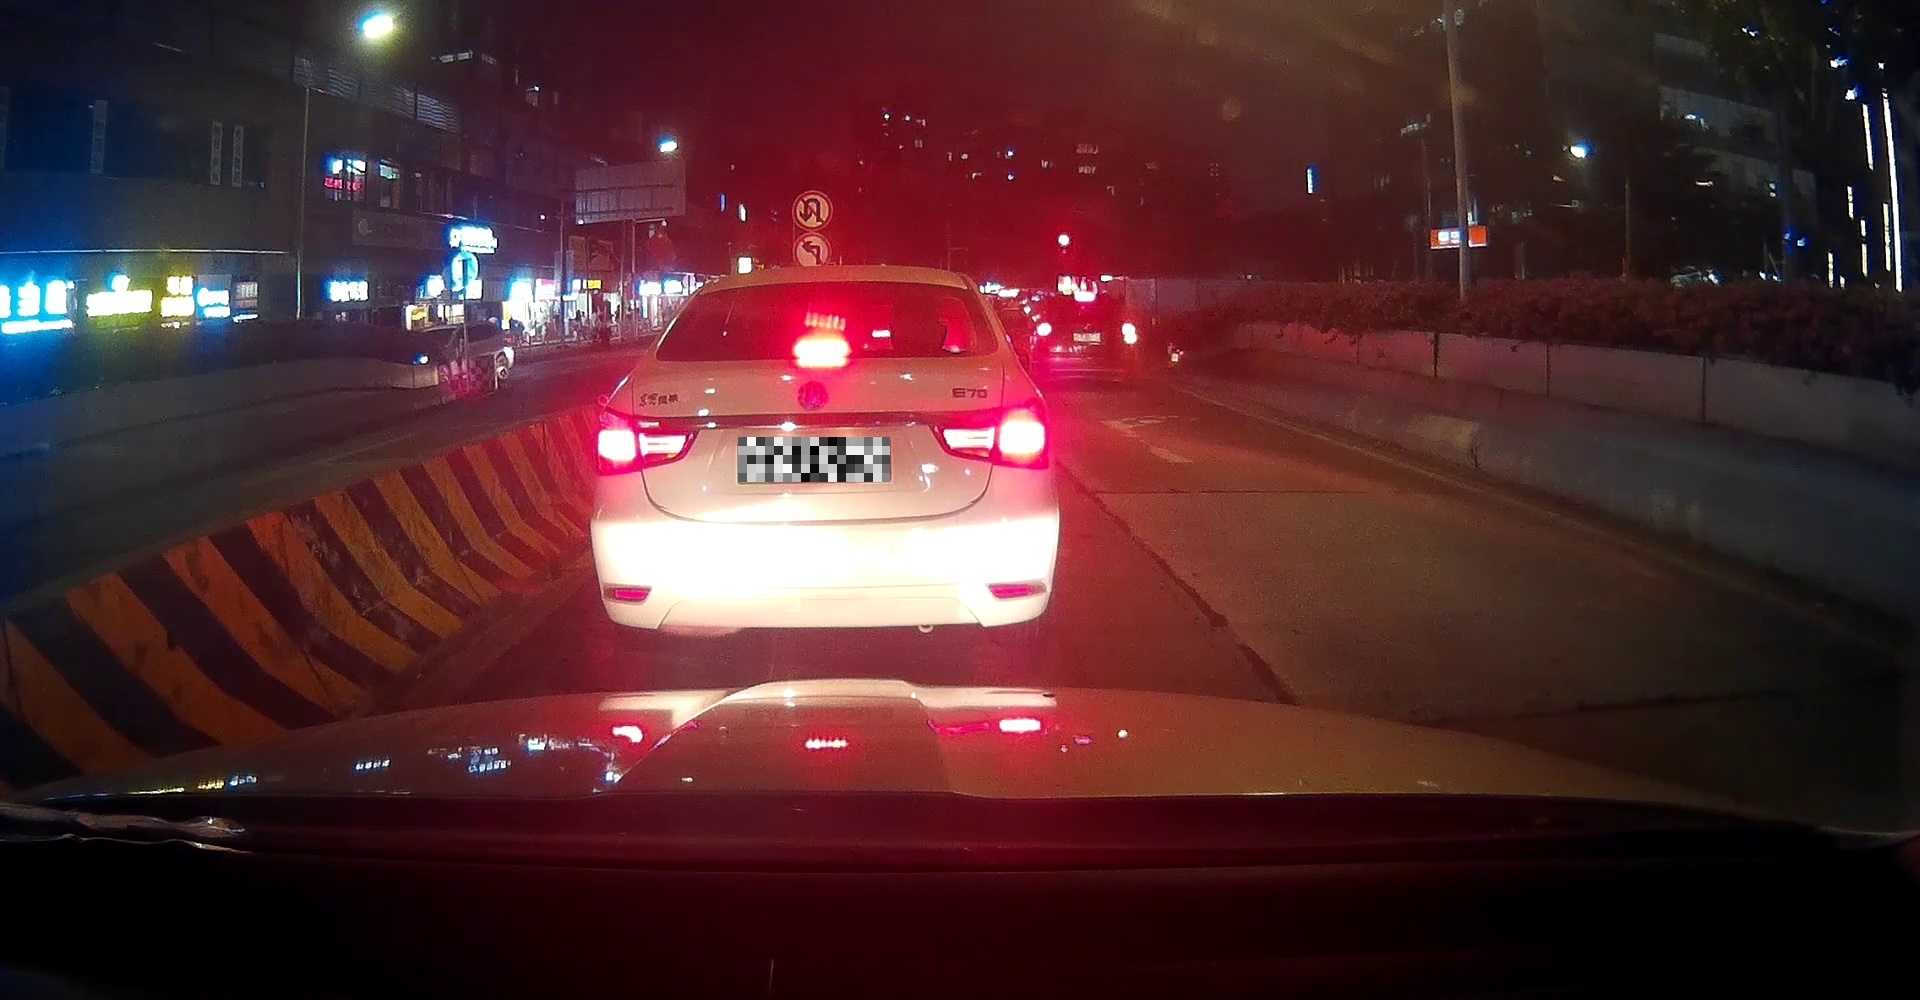L_light: (590, 406, 696, 476)
R_light: (930, 398, 1049, 468)
T_light: (797, 339, 847, 360)
night-brake: (590, 266, 1058, 650)
plate_1: (738, 437, 890, 482)
